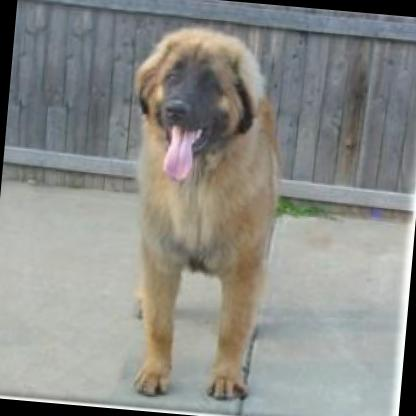Leonberg: (105, 16, 292, 406)
